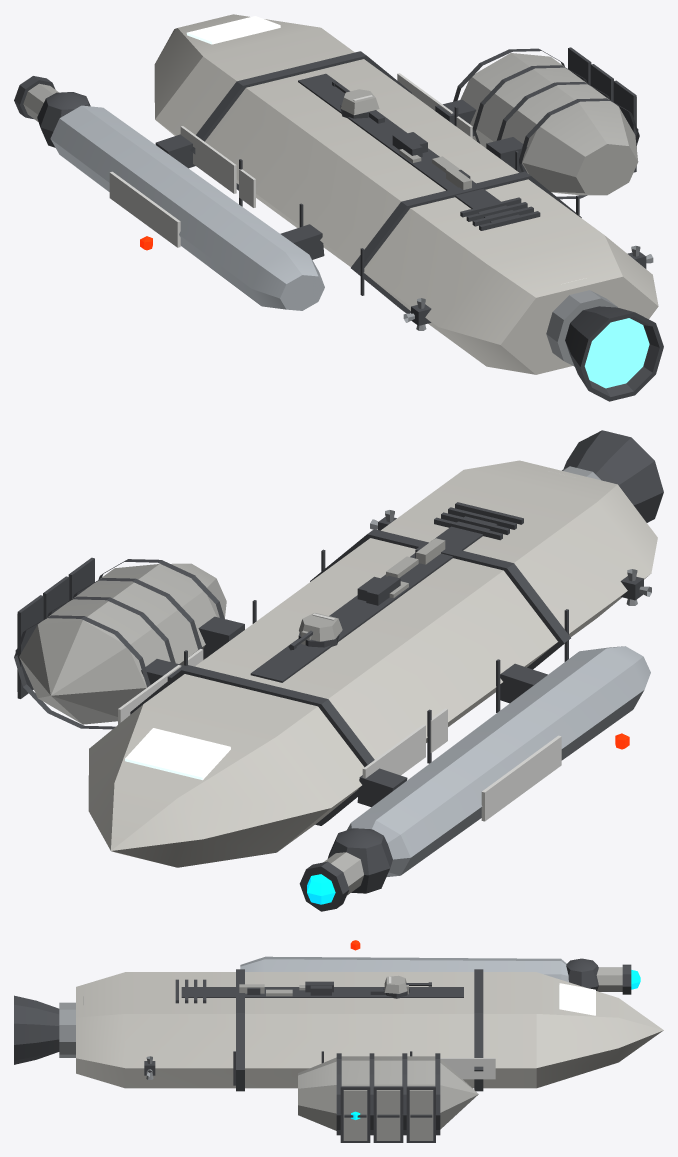
Rendered from tinker.glb.
3 views of the same model, one above another, from view 1: azimuth 30°, elevation 25°; view 2: azimuth 150°, elevation 25°; view 3: azimuth 270°, elevation 25° (orthographic). The views are drawn at different scales.
Visible parts, largest first — view 1: Hull, Turret_3; view 2: Hull, Turret_3; view 3: Hull, Turret_3.
Part boxes in pixels (box(x1,y1,x2,y2)): Hull: box(14, 14, 663, 401); Turret_3: box(332, 80, 379, 118); Hull: box(14, 430, 663, 911); Turret_3: box(288, 613, 342, 650); Hull: box(14, 940, 663, 1142); Turret_3: box(383, 975, 431, 998).
Bounding box in the file's own units: 1.26 × 0.3222 × 2.
